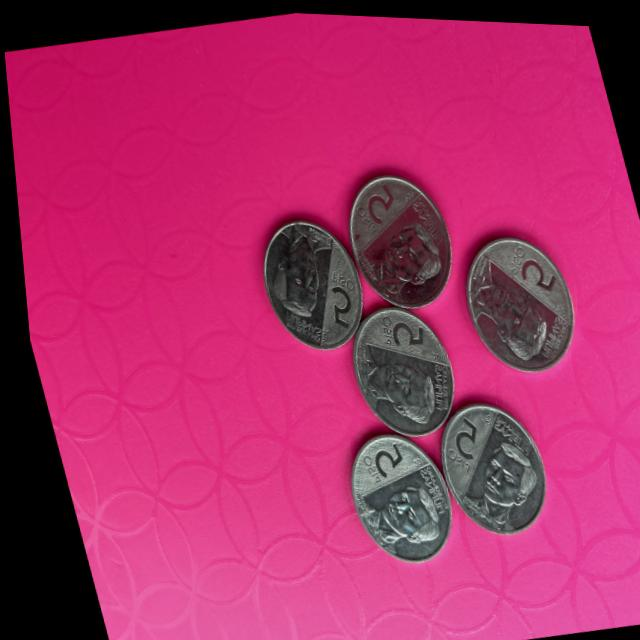5_New_Front: (490, 224, 564, 308), (361, 295, 427, 364), (345, 430, 410, 494), (340, 177, 400, 235), (423, 404, 476, 468), (313, 276, 356, 336)
